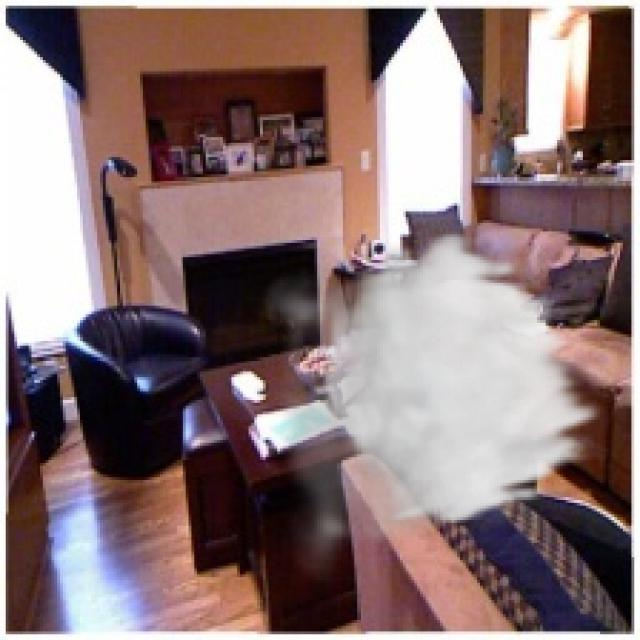smoke: (254, 228, 609, 588)
